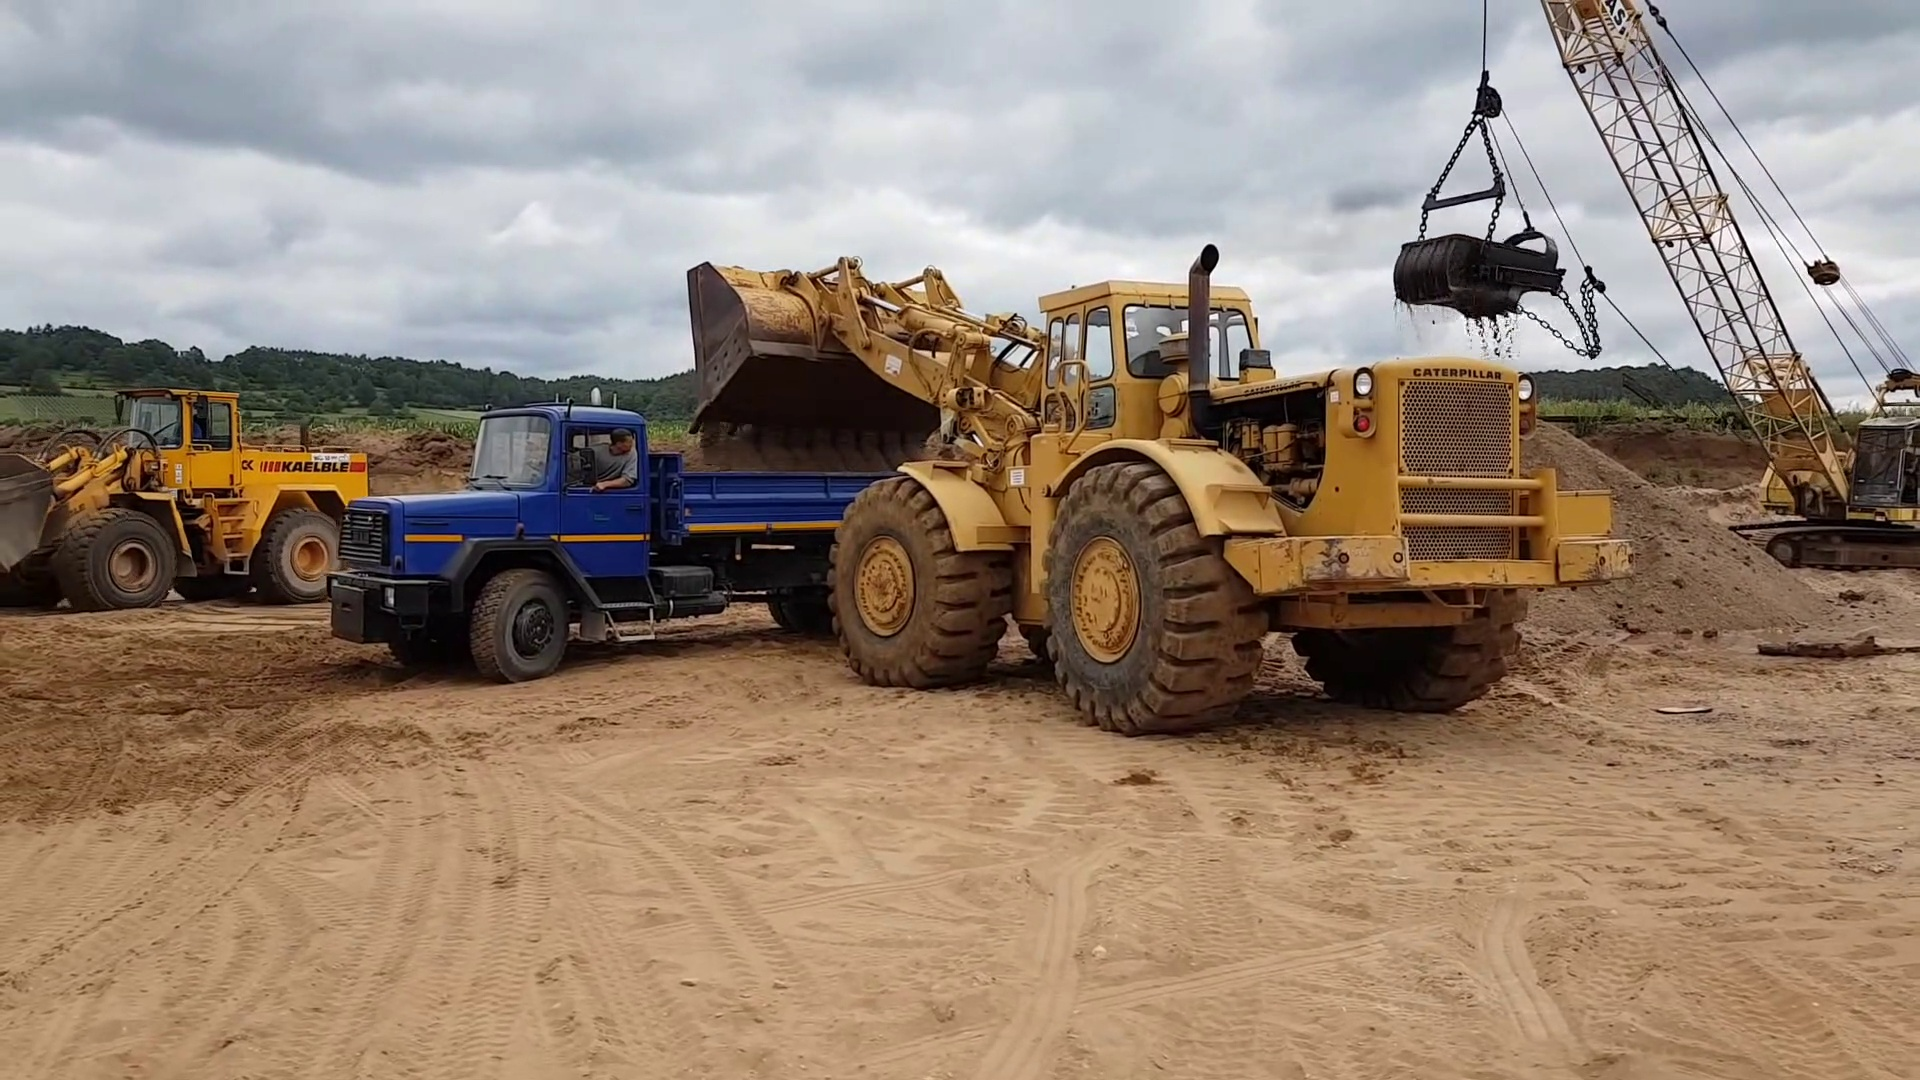person: (585, 429, 644, 508)
truck: (335, 405, 948, 677)
wheel loader: (683, 261, 1633, 728), (1, 376, 371, 596)
